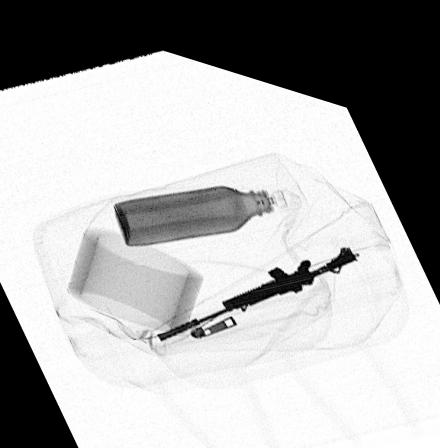Gun: (149, 220, 358, 334)
